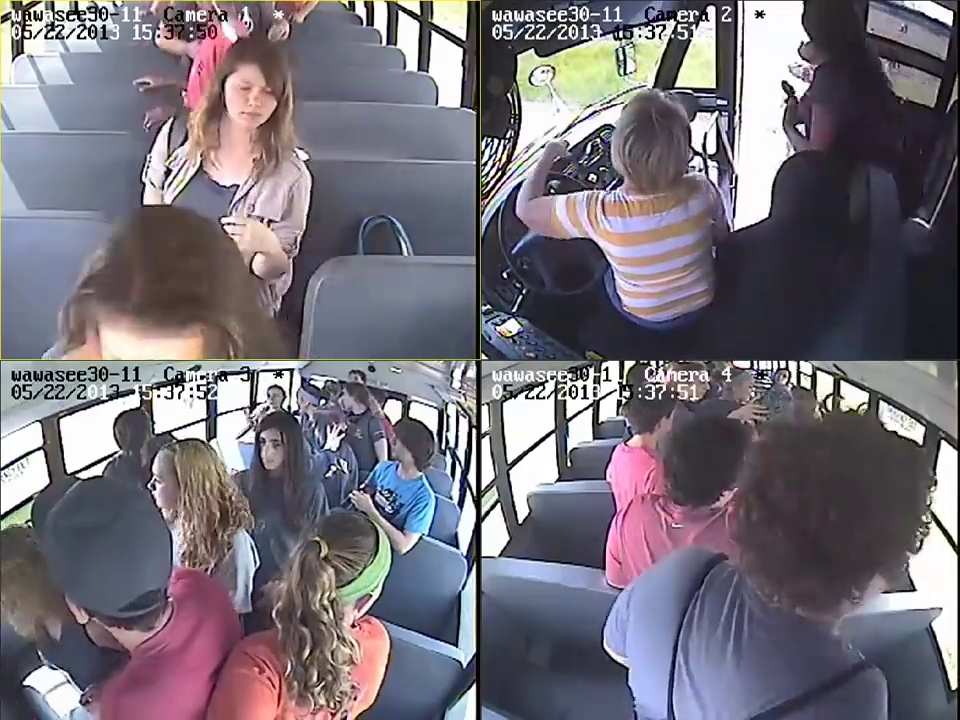face: (228, 61, 273, 132), (151, 451, 176, 508), (258, 421, 283, 472), (387, 428, 413, 462)
